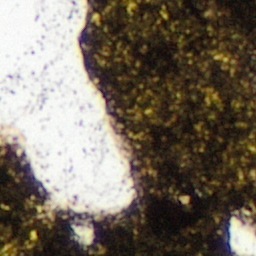cement_matrix: (0, 0, 255, 255), (73, 220, 94, 245)
gravel_crushed_stones: (0, 0, 136, 217), (228, 215, 255, 255), (74, 221, 93, 244)
